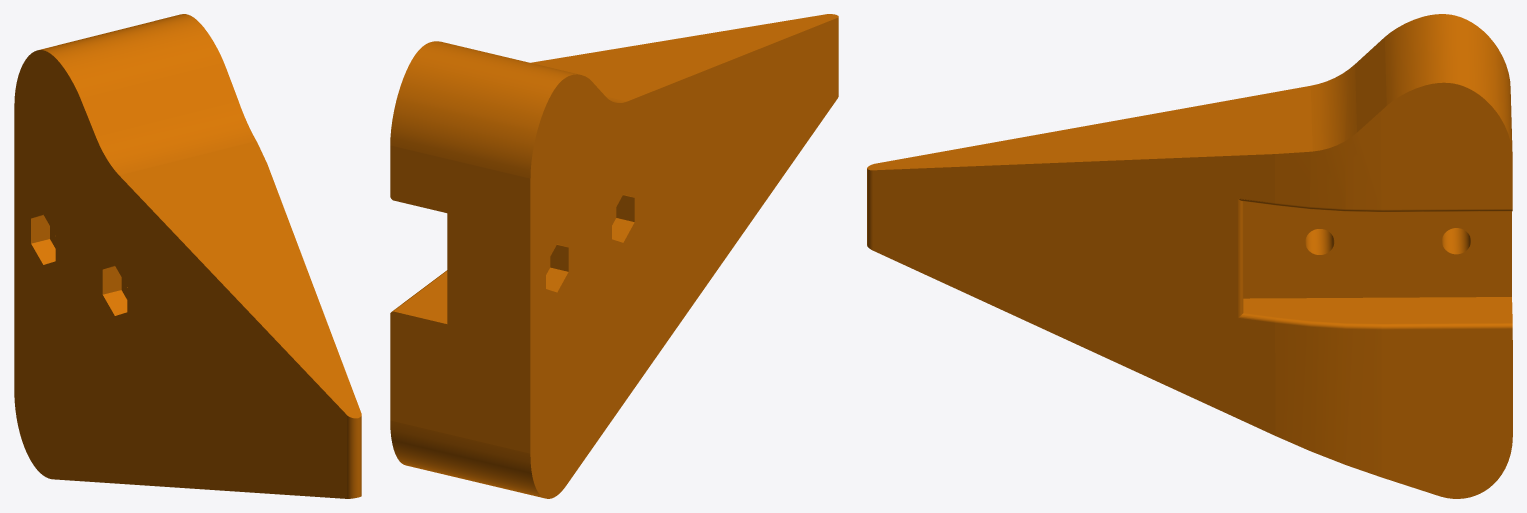
The model's file is right_finger.obj.
The picture shows the model from 3 angles, left to right: view 1: azimuth 30°, elevation 25°; view 2: azimuth 150°, elevation 25°; view 3: azimuth 270°, elevation 25°; orthographic projection. The views are drawn at different scales.
Size of the model in its own units: 0.0192 by 0.0538 by 0.0756.
